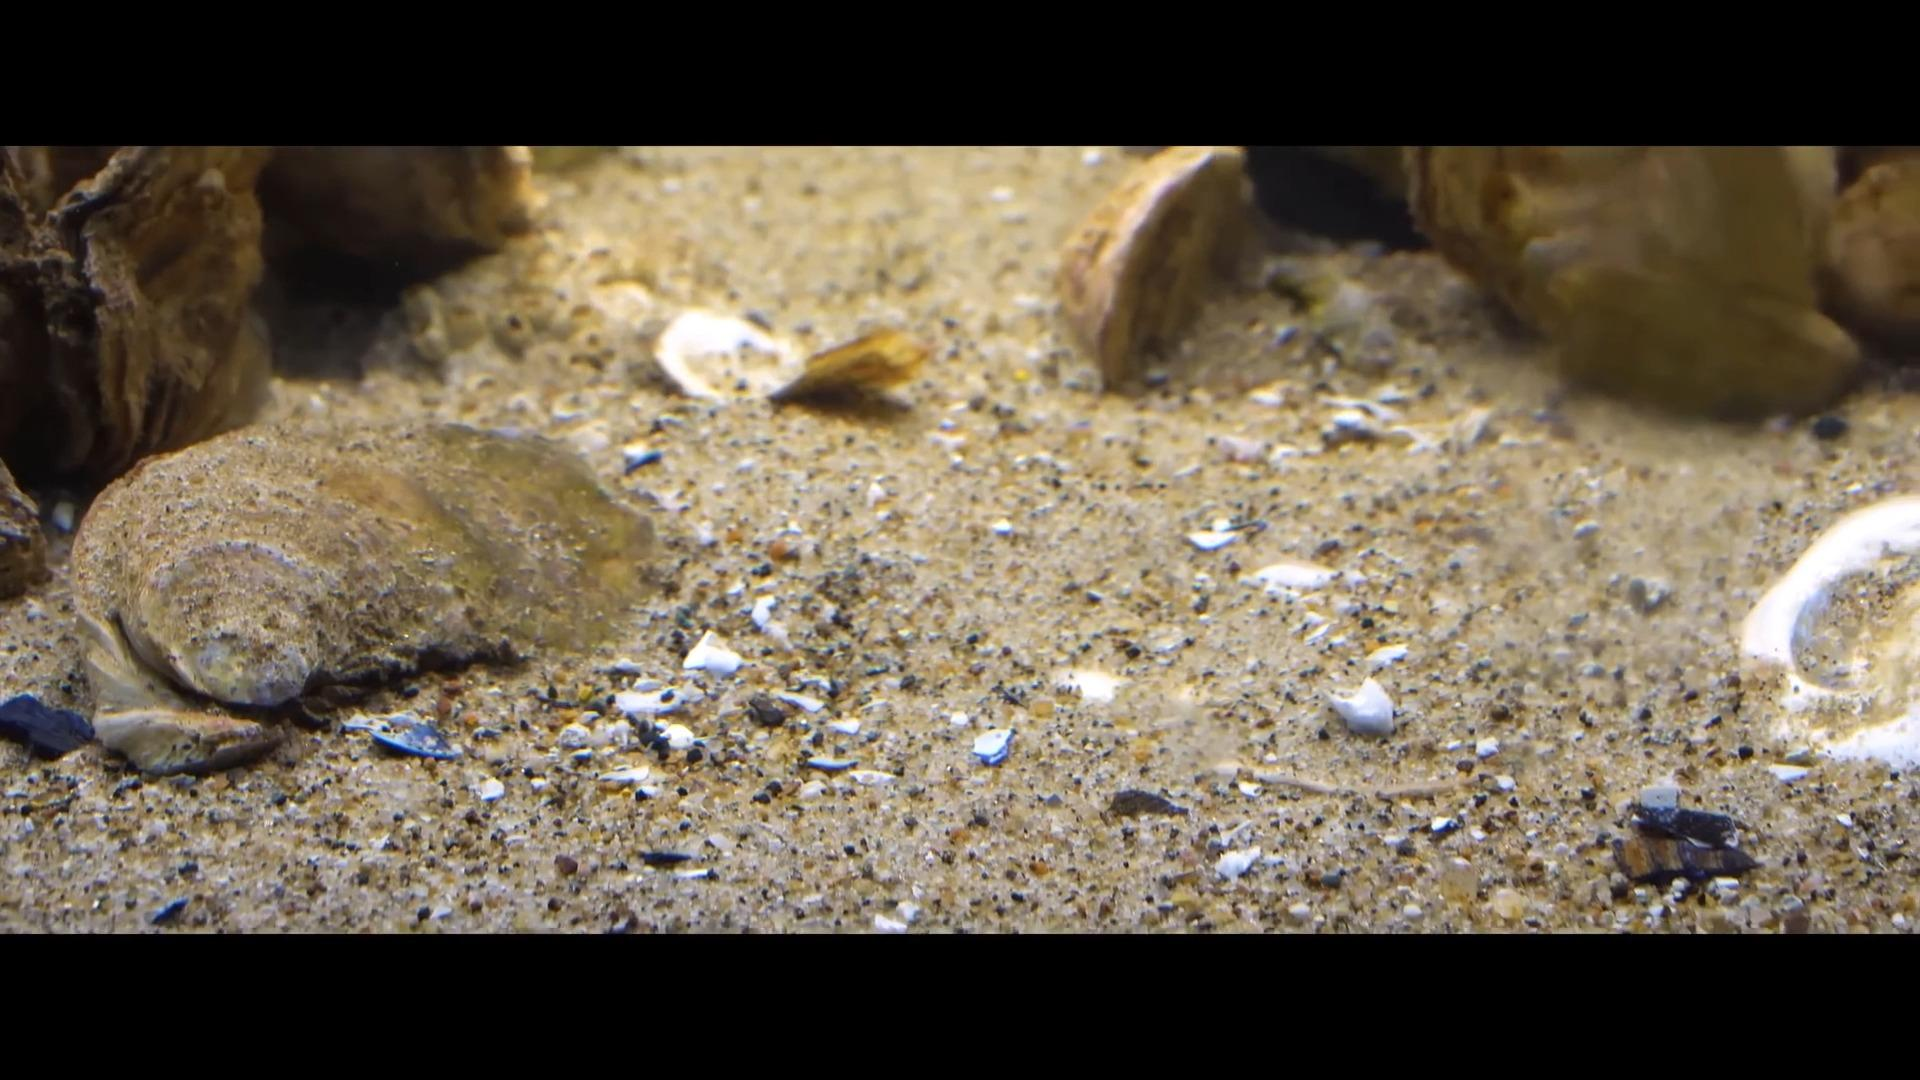Oyster: (69, 425, 658, 773), (1399, 145, 1876, 417), (1, 142, 280, 487), (1054, 146, 1251, 389), (255, 146, 537, 273), (764, 326, 928, 410)
